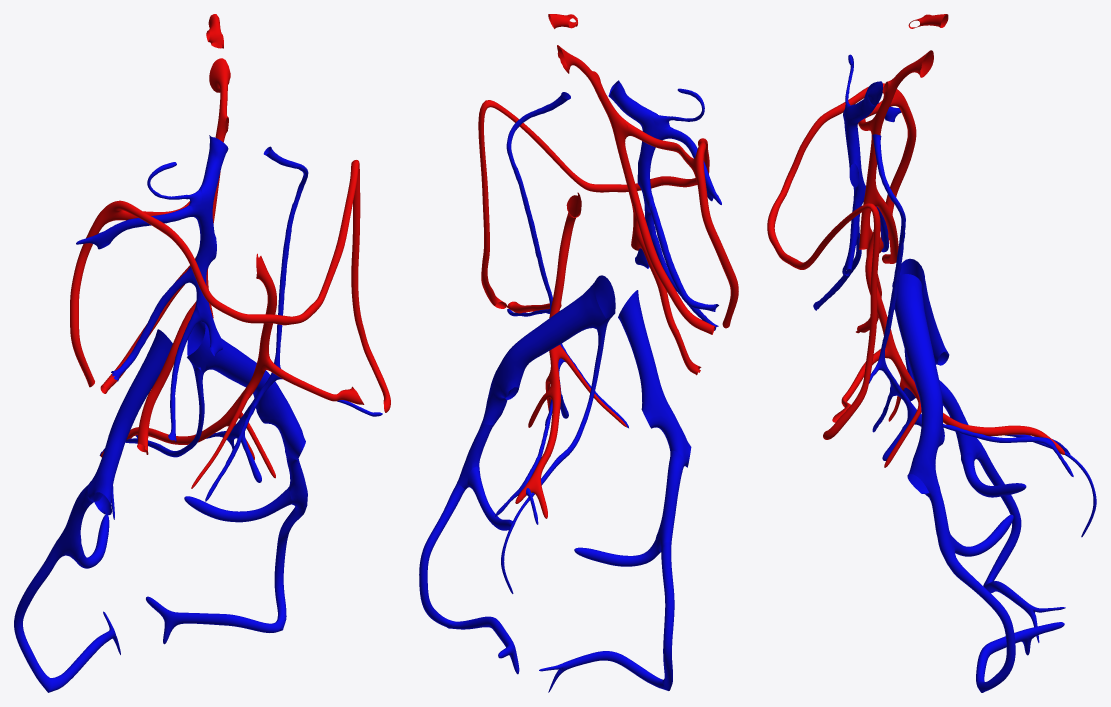
File: VH_F_Large_Intestine_Landmarks.fbx
The picture shows the model from 3 angles, left to right: view 1: azimuth 30°, elevation 25°; view 2: azimuth 150°, elevation 25°; view 3: azimuth 270°, elevation 25°; orthographic projection. The views are drawn at different scales.
Parts seen in each view (by area): view 1: VH_F_large_intestine_landmark_veins, VH_F_large_intestine_landmark_arteries; view 2: VH_F_large_intestine_landmark_veins, VH_F_large_intestine_landmark_arteries; view 3: VH_F_large_intestine_landmark_veins, VH_F_large_intestine_landmark_arteries.
Part boxes in pixels (x1,y1,x2,y2): VH_F_large_intestine_landmark_veins: (14,135,382,692); VH_F_large_intestine_landmark_arteries: (70,14,390,488); VH_F_large_intestine_landmark_veins: (419,80,721,692); VH_F_large_intestine_landmark_arteries: (478,14,738,518); VH_F_large_intestine_landmark_veins: (813,54,1096,692); VH_F_large_intestine_landmark_arteries: (767,14,1064,467).
Bounding box in the file's own units: 14.96 × 32.96 × 15.1.
